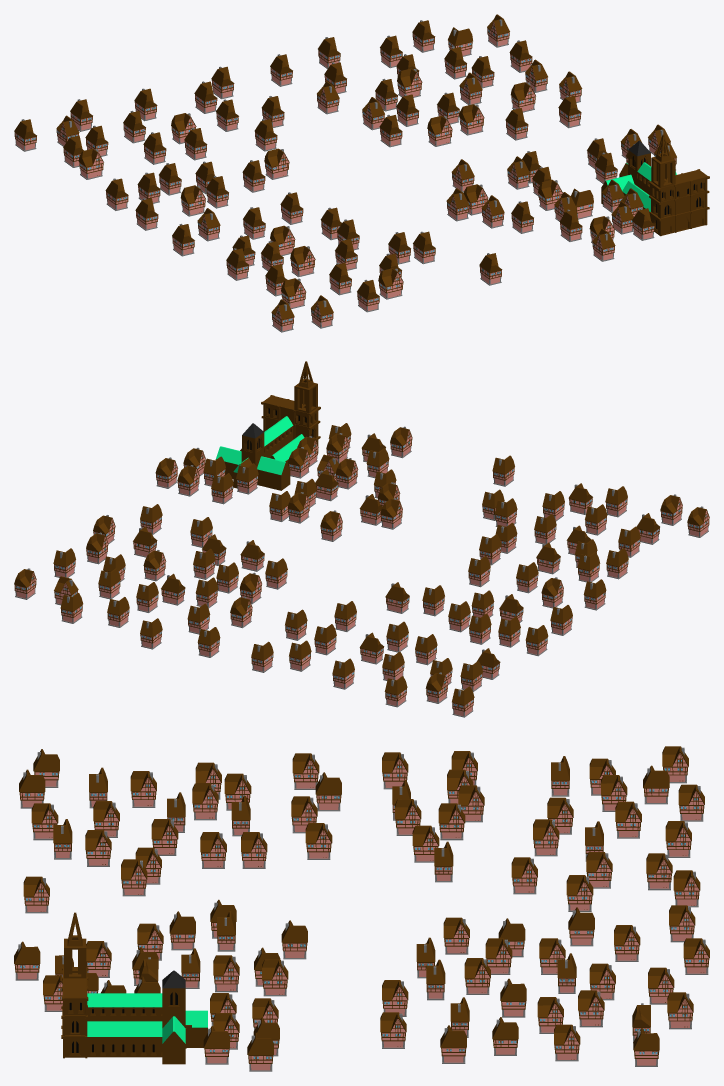
The model's file is maison.gltf.
3 renders of one model, top to bottom at view 1: azimuth 30°, elevation 25°; view 2: azimuth 150°, elevation 25°; view 3: azimuth 270°, elevation 25°, orthographic. The views are drawn at different scales.
Visible parts, largest first — view 1: Cube, maisonDecor1.051, maisonDecor1.068, maisonDecor1.078, maisonDecor1.014, maisonDecor1.050, maisonDecor1.030, maisonDecor1.096, maisonDecor1.085, maisonDecor1.036, maisonDecor1.083, maisonDecor1.003 (+64 smaller); view 2: Cube, maisonDecor1.052, maisonDecor1.053, maisonDecor1.088, maisonDecor1.098, maisonDecor1.064, maisonDecor1.016, maisonDecor1.035, maisonDecor1.042, maisonDecor1.058, maisonDecor1.079, maisonDecor1.011 (+47 smaller); view 3: Cube, maisonDecor1.053, maisonDecor1.084, maisonDecor1.066, maisonDecor1.043, maisonDecor1.013, maisonDecor1.018, maisonDecor1.044, maisonDecor1.079, maisonDecor1.070, maisonDecor1.063, maisonDecor1.005 (+77 smaller).
Part boxes in pixels (x1,y1,x2,y2): Cube: (601,134,709,236); maisonDecor1.051: (180,185,205,216); maisonDecor1.068: (78,148,103,179); maisonDecor1.078: (459,104,484,135); maisonDecor1.014: (378,268,403,299); maisonDecor1.050: (264,148,289,179); maisonDecor1.030: (290,246,315,277); maisonDecor1.096: (427,115,452,146); maisonDecor1.085: (510,82,535,112); maisonDecor1.036: (281,278,306,308); maisonDecor1.083: (397,68,422,97); maisonDecor1.003: (538,179,562,210); Cube: (215,361,320,490); maisonDecor1.052: (498,616,520,647); maisonDecor1.053: (448,601,470,632); maisonDecor1.088: (14,568,36,599); maisonDecor1.098: (230,596,252,628); maisonDecor1.064: (251,641,273,672); maisonDecor1.016: (177,465,199,496); maisonDecor1.035: (606,548,628,579); maisonDecor1.042: (468,556,490,587); maisonDecor1.058: (314,624,336,655); maisonDecor1.079: (265,558,287,589); maisonDecor1.011: (236,463,258,494); Cube: (61,912,207,1064); maisonDecor1.053: (438,803,465,840); maisonDecor1.084: (578,990,604,1027); maisonDecor1.066: (511,857,537,894); maisonDecor1.043: (121,859,147,896); maisonDecor1.013: (262,959,288,996); maisonDecor1.018: (533,819,559,856); maisonDecor1.044: (23,876,49,913); maisonDecor1.079: (443,917,469,954); maisonDecor1.070: (678,784,704,821); maisonDecor1.063: (646,853,672,890); maisonDecor1.005: (213,955,239,992).
Bounding box in the file's own units: 2.98 × 0.5691 × 2.96.
Materials: 8 (8 with a texture image).
